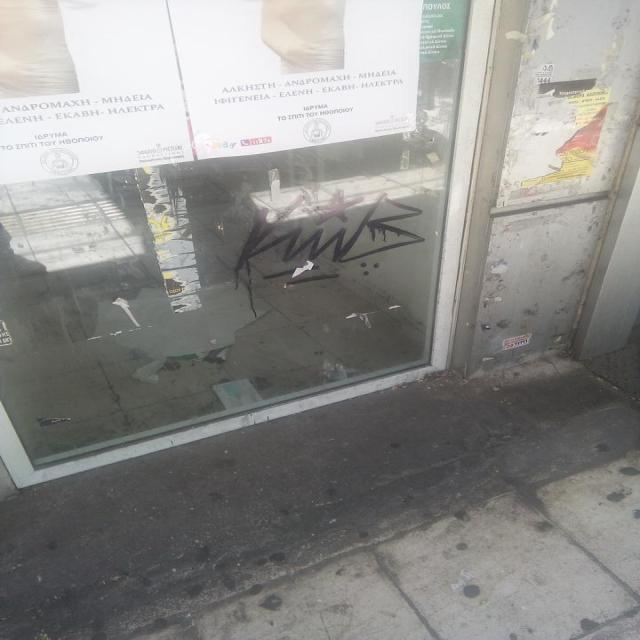nonspitting: (232, 190, 428, 284)
